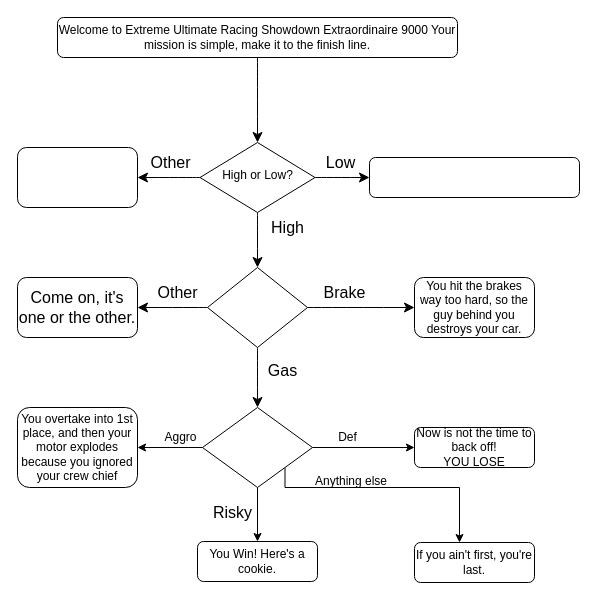
The diagram is 597 pixels wide and 600 high, and some of its shapes have lost their labels. Each missing label, with the centre of its shape:
Aggressive, Defensive, Reckless: (257,447)
Directions are hard.: (77,177)
Gas or Brake?: (257,307)
What a fool! You didn't see the wall?! Game Over: (474,177)
